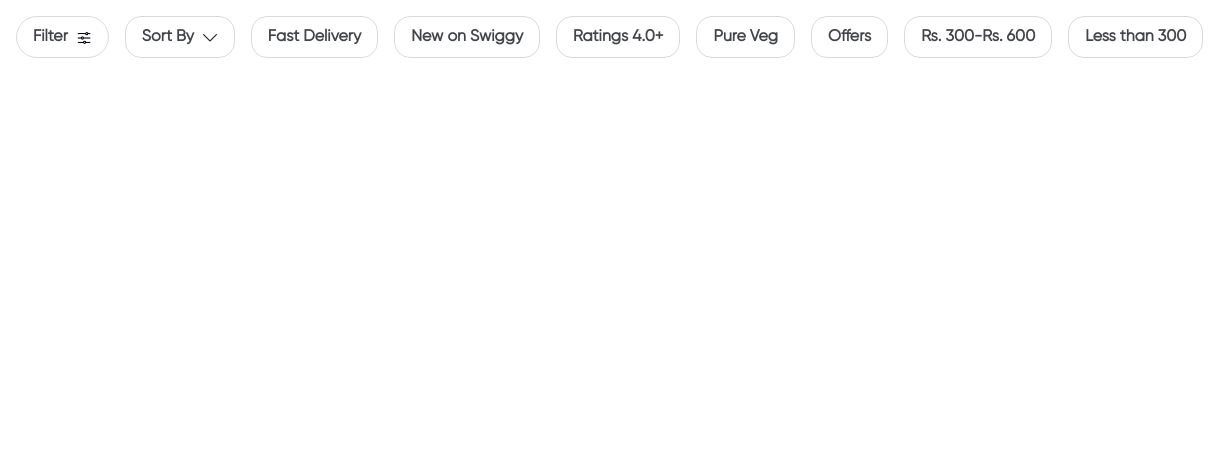
Scenario: FilterSection Component › fetches and displays areas
The width and height of the screenshot is (1220, 476).
Click the button "Filter" at (62,37), box x1=16 y1=16 x2=109 y2=58
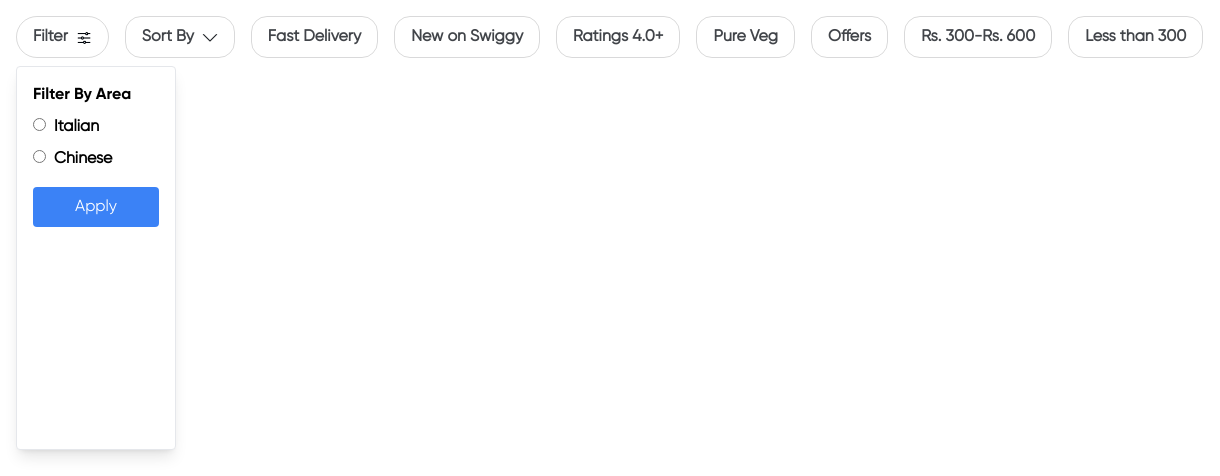
Expected: the text "Italian" is shown, x1=54 y1=119 x2=99 y2=135
Expected: the text "Chinese" is shown, x1=54 y1=151 x2=112 y2=167
